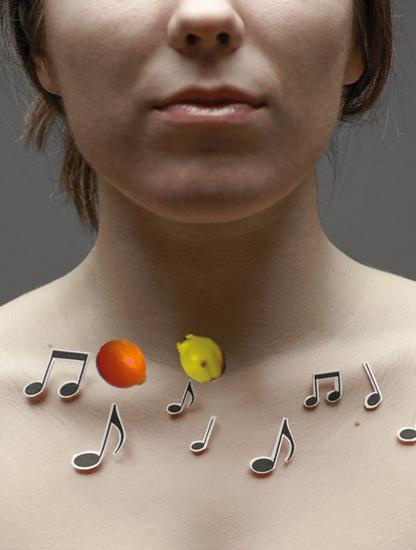Quince: (174, 330, 230, 386)
Tangelo: (95, 338, 150, 393)
